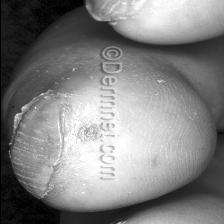Unclassified: (75, 120, 95, 148)
